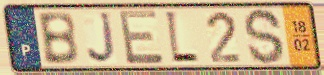2: (203, 9, 244, 65)
B: (35, 10, 81, 67)
E: (116, 8, 167, 67)
J: (85, 10, 119, 66)
L: (163, 8, 201, 66)
S: (242, 6, 287, 67)
